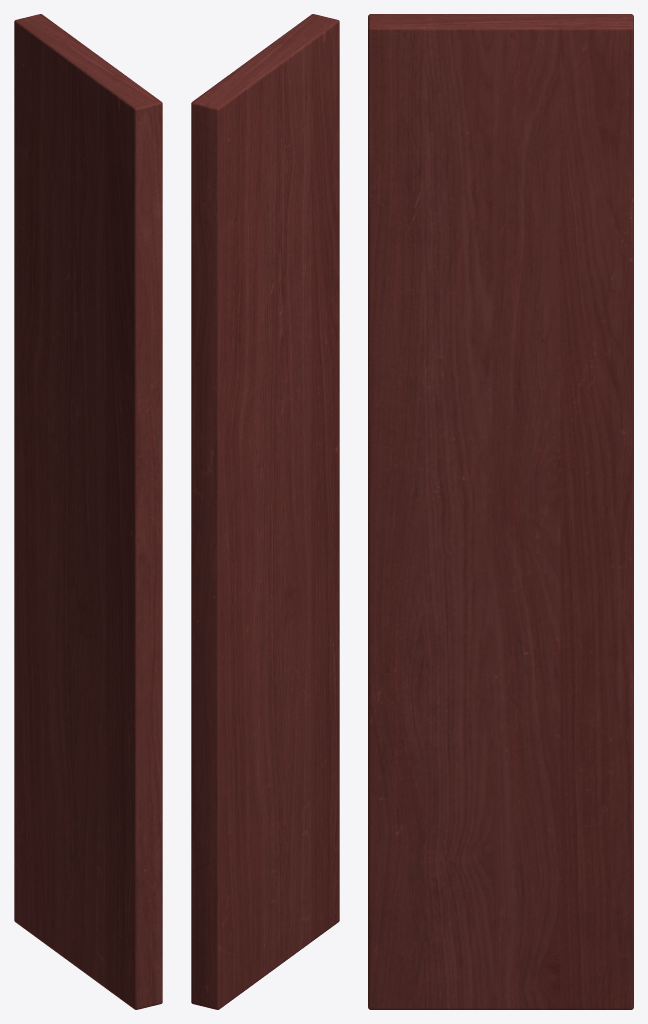
The model's file is SM_SJM_PillarE_01.fbx.
3 renders of one model, left to right at view 1: azimuth 30°, elevation 25°; view 2: azimuth 150°, elevation 25°; view 3: azimuth 270°, elevation 25°, orthographic. The views are drawn at different scales.
Parts seen in each view (by area): view 1: SM_SJM_PillarE_01; view 2: SM_SJM_PillarE_01; view 3: SM_SJM_PillarE_01.
Boxes of the visible parts, x1,y1,x2,y2 form: SM_SJM_PillarE_01: [14, 14, 162, 1009]; SM_SJM_PillarE_01: [191, 14, 339, 1009]; SM_SJM_PillarE_01: [368, 14, 633, 1009].
Size of the model in its own units: 11.71 by 87.29 by 356.
Materials: 1 (1 with a texture image).
